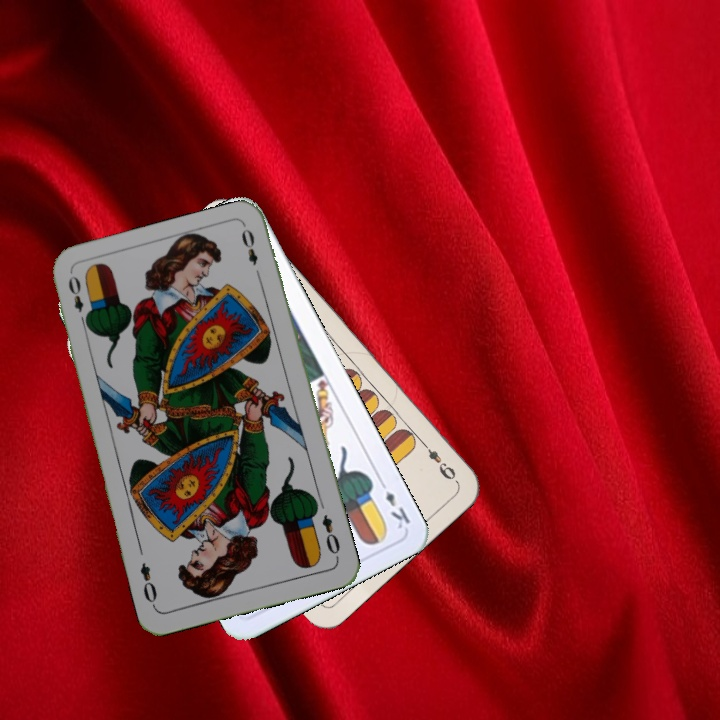E9: (416, 436, 460, 485)
EK: (375, 475, 413, 532)
EO: (64, 271, 92, 329), (318, 510, 343, 562)
